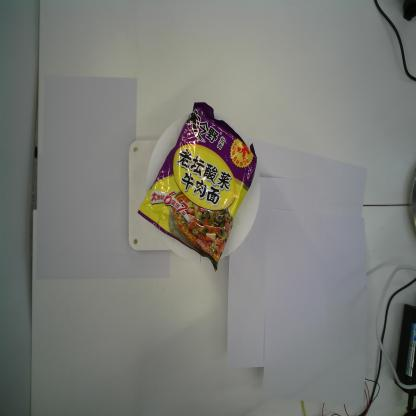Instant Noodles: (137, 100, 258, 271)
